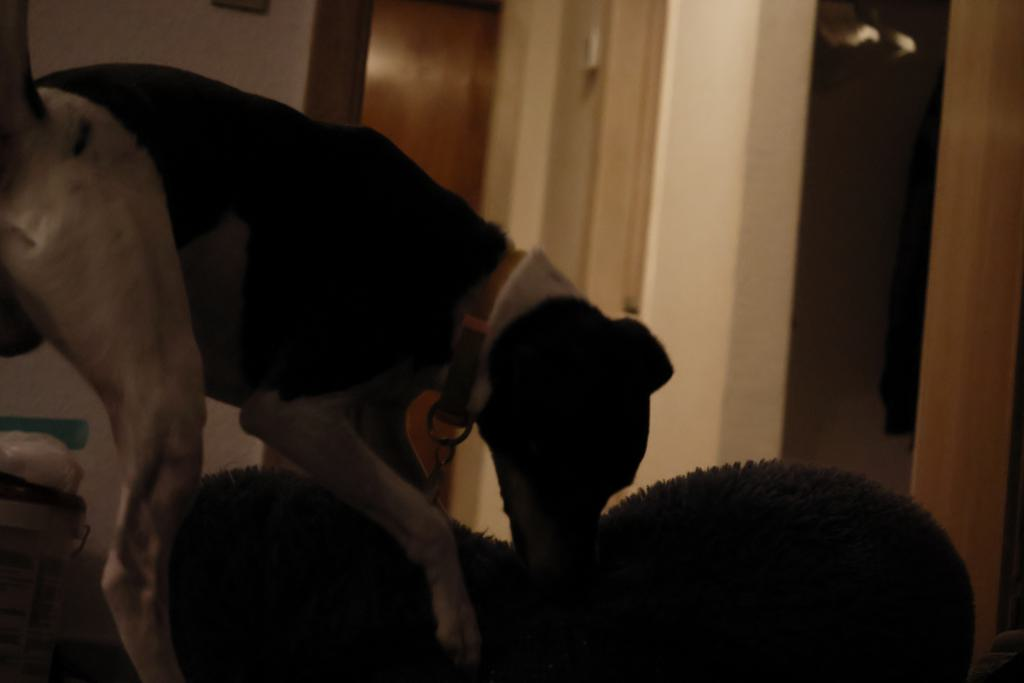Dog: (0, 0, 682, 683)
